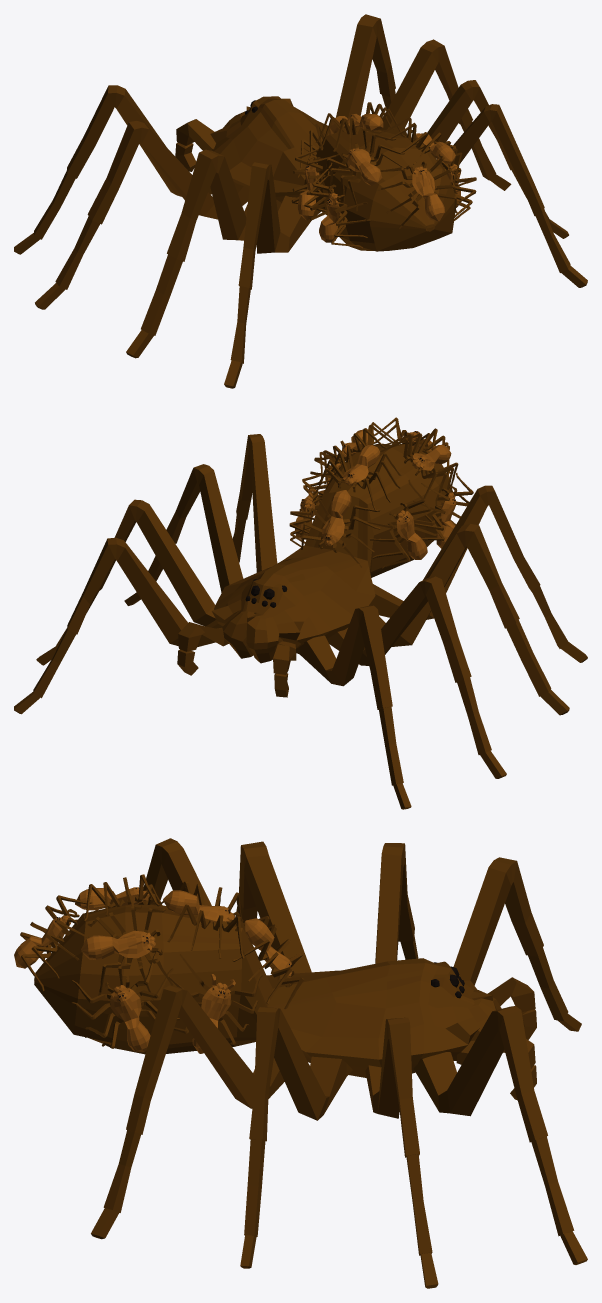
The model's file is wolf spider mother.fbx.
3 views of the same model, one above another, from view 1: azimuth 30°, elevation 25°; view 2: azimuth 150°, elevation 25°; view 3: azimuth 270°, elevation 25° (orthographic). The views are drawn at different scales.
Parts seen in each view (by area): view 1: Cube.008, Cube, Cube.002, Cube.041, Cube.055, Cube.063, Cube.028, Cube.069, Cube.042, Cube.035, Cube.020, Cube.049 (+3 smaller); view 2: Cube.008, Cube, Cube.002, Cube.041, Cube.028, Cube.020, Cube.013, Cube.001, Cube.014, Cube.042, Cube.055, Cube.021 (+4 smaller); view 3: Cube.008, Cube, Cube.002, Cube.048, Cube.062, Cube.069, Cube.056, Cube.028, Cube.042, Cube.001, Cube.034, Cube.041 (+5 smaller).
Part boxes in pixels (x1,y1,x2,y2): Cube.008: (14,14,587,388); Cube: (210,96,455,251); Cube.002: (175,98,292,171); Cube.041: (324,128,406,211); Cube.055: (309,162,370,248); Cube.063: (412,166,444,221); Cube.028: (315,102,405,151); Cube.069: (376,154,457,228); Cube.042: (382,117,462,185); Cube.035: (346,147,382,185); Cube.020: (291,147,339,211); Cube.049: (319,193,340,242); Cube.008: (14,434,587,809); Cube: (212,444,452,663); Cube.002: (177,622,296,697); Cube.041: (379,433,458,505); Cube.028: (313,445,401,510); Cube.020: (366,479,436,568); Cube.013: (322,490,351,546); Cube.001: (300,497,380,567); Cube.014: (396,510,427,559); Cube.042: (319,422,398,484); Cube.055: (413,473,473,540); Cube.021: (289,471,331,547); Cube.008: (85,838,587,1288); Cube: (34,904,501,1077); Cube.002: (456,977,536,1100); Cube.048: (81,930,155,959); Cube.062: (110,985,150,1052); Cube.069: (20,895,92,991); Cube.056: (71,951,179,1048); Cube.028: (167,881,244,958); Cube.042: (87,905,173,1000); Cube.001: (232,916,303,1009); Cube.034: (163,890,234,923); Cube.041: (83,874,161,921).
Size of the model in its own units: 732 by 313 by 614.
